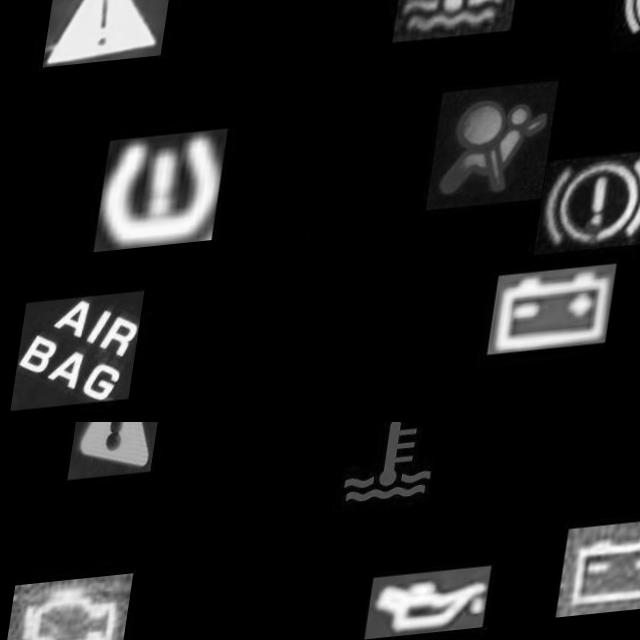Central Warning lamp: (46, 0, 175, 75), (76, 422, 172, 487)
Engine cooling system: (331, 422, 462, 530), (401, 0, 532, 49)
